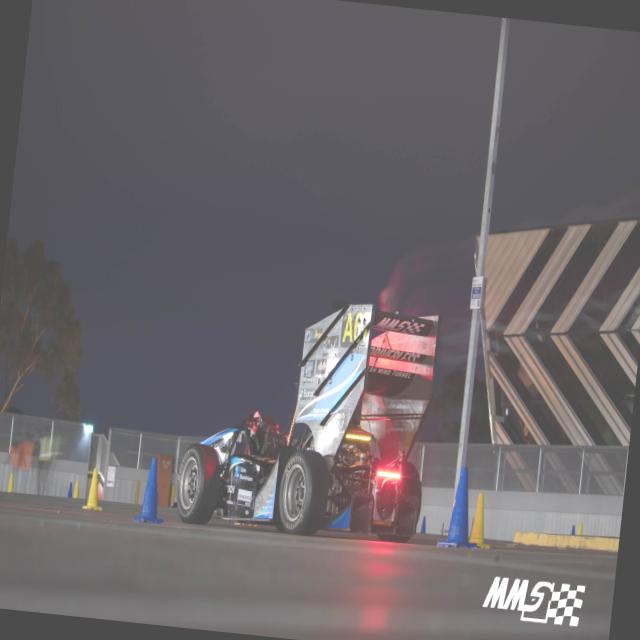blue_cone: (437, 464, 483, 550), (134, 456, 170, 524), (419, 516, 426, 533), (67, 482, 73, 498), (571, 524, 575, 534)
yellow_cone: (467, 491, 495, 548), (82, 468, 105, 510), (72, 480, 80, 498), (8, 472, 15, 492), (577, 521, 583, 535)
